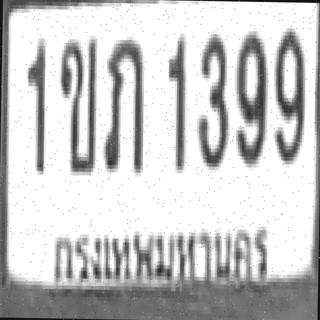A02: (56, 35, 95, 172)
A32: (101, 34, 144, 170)
N01: (22, 36, 46, 173), (164, 33, 187, 170)
N03: (194, 30, 227, 166)
N09: (233, 27, 267, 164), (272, 24, 304, 160)
P04: (48, 210, 276, 307)
